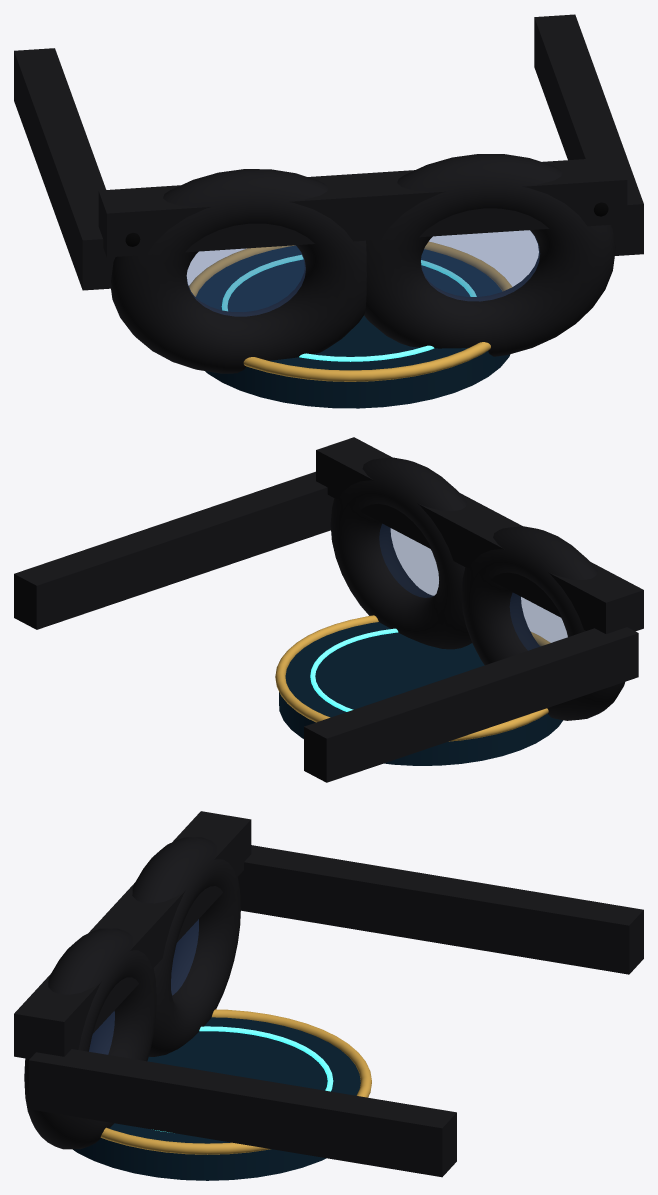
File: plugin-mvmrf19v-jfv1.glb
3 views of the same model, one above another, from view 1: azimuth 30°, elevation 25°; view 2: azimuth 150°, elevation 25°; view 3: azimuth 270°, elevation 25° (orthographic). The views are drawn at different scales.
Visible parts, largest first — view 1: part (×10); view 2: part (×10); view 3: part (×10).
Boxes of the visible parts, x1,y1,x2,y2 form: part (×10): (14,14,643,408); part (×10): (14,437,643,782); part (×10): (14,811,643,1180).
Bounding box in the file's own units: 0.7172 × 0.2387 × 0.666.
